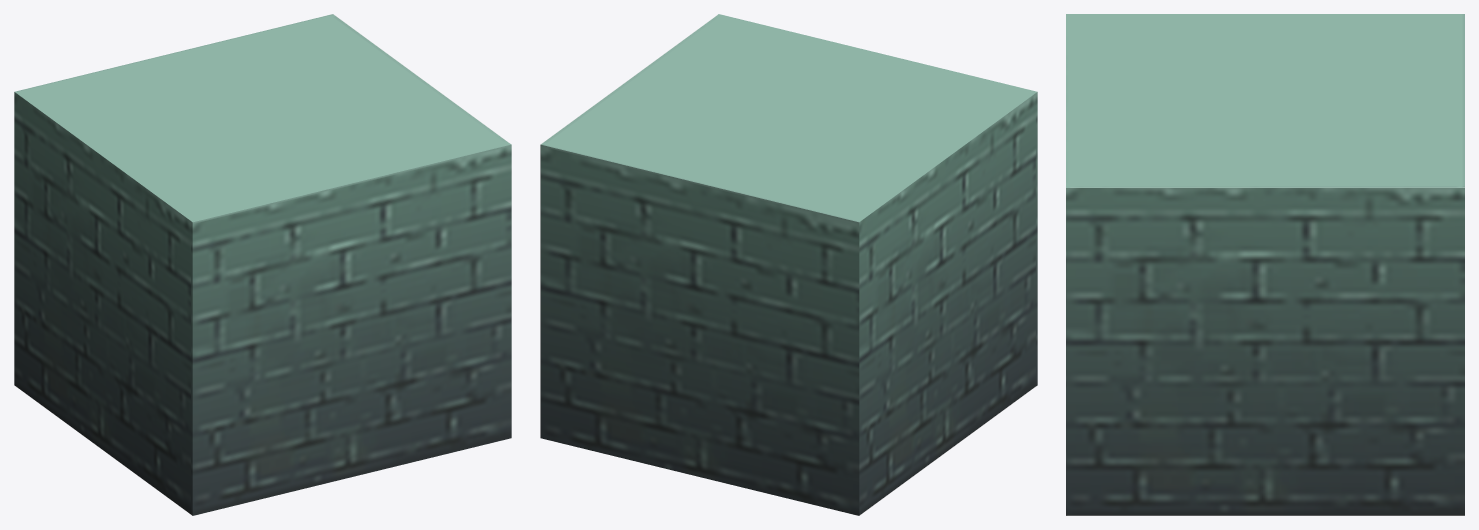
The model's file is wall.fbx.
The picture shows the model from 3 angles, left to right: view 1: azimuth 30°, elevation 25°; view 2: azimuth 150°, elevation 25°; view 3: azimuth 270°, elevation 25°; orthographic projection. The views are drawn at different scales.
Parts seen in each view (by area): view 1: pCube1; view 2: pCube1; view 3: pCube1.
Boxes of the visible parts, x1=… form: pCube1: x1=14, y1=14, x2=511, y2=515; pCube1: x1=540, y1=14, x2=1037, y2=515; pCube1: x1=1066, y1=14, x2=1464, y2=515.
Size of the model in its own units: 7.12 by 6.26 by 6.9.
1 material, 1 textured.
